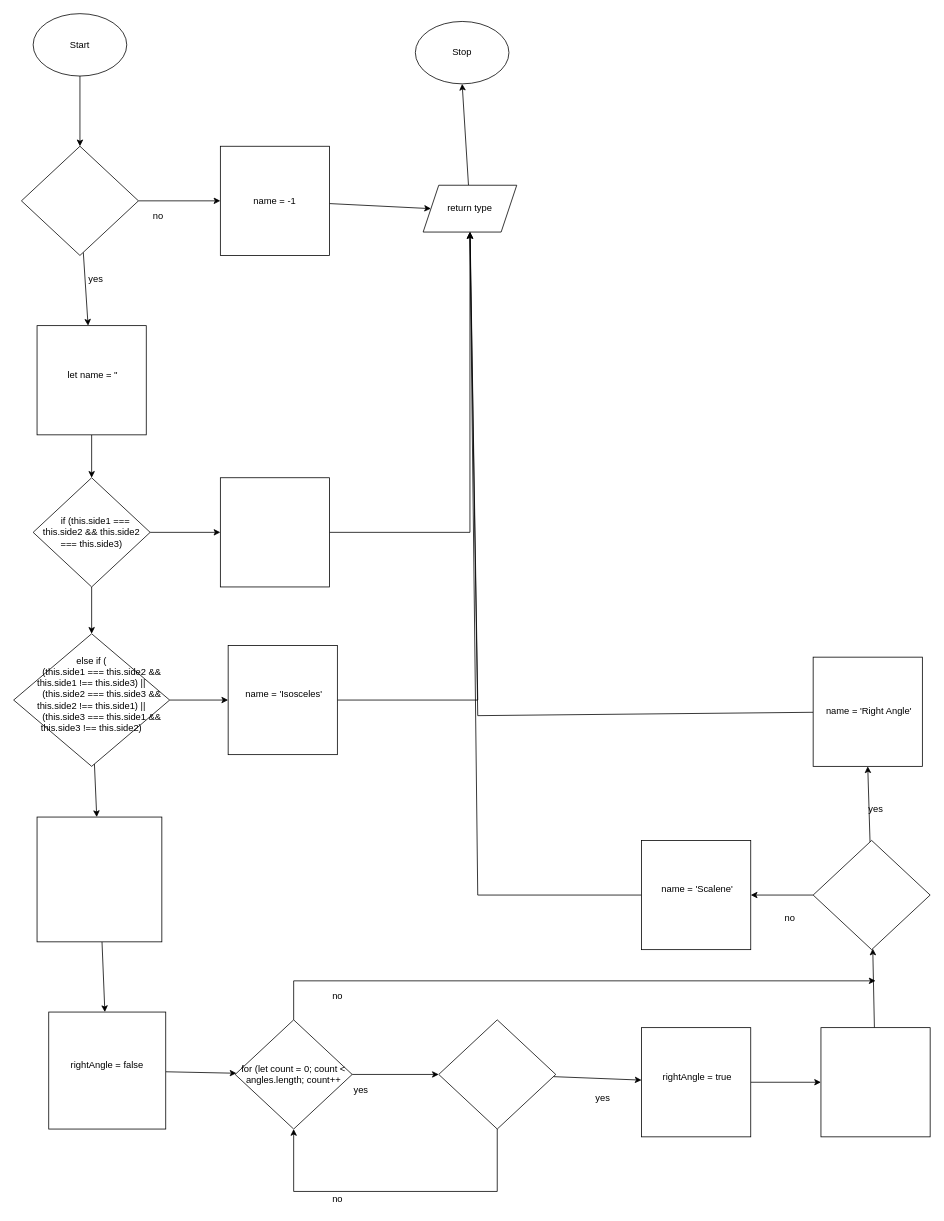
The diagram is 944 pixels wide and 1221 high, and some of its shapes have lost their labels. The box of each missing label's shape, as (x1, y1, x2, y2) in pixels:
angles = [this.angle(1), this.angle(2), this.angle(3)]: (36, 816, 162, 942)
break: (820, 1027, 930, 1137)
if (angles[count] * (180 / Math.PI) === 90): (438, 1019, 556, 1129)
if (rightAngle): (812, 840, 930, 950)
if this.isValid(): (21, 145, 138, 255)
name = 'Equilateral': (220, 477, 330, 587)
